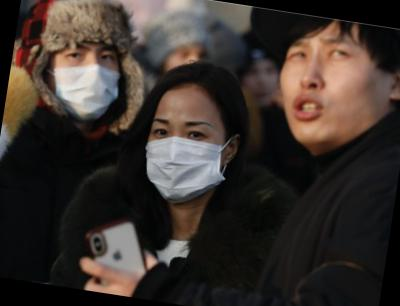with_mask: (137, 108, 234, 213), (41, 36, 127, 124)
without_mask: (270, 28, 399, 163)
